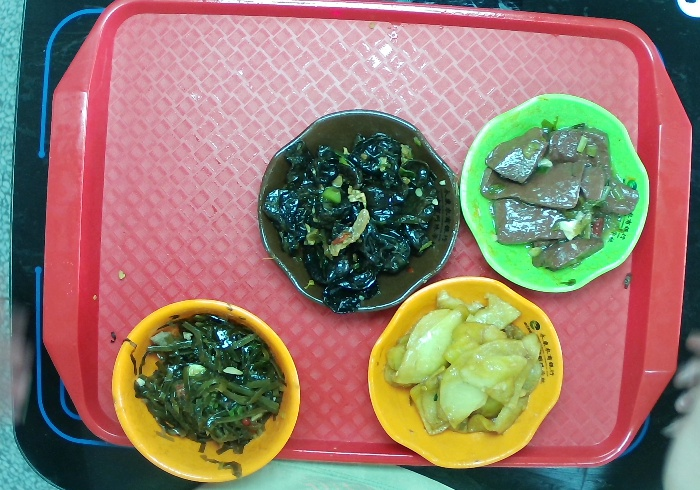YKMZ-Ju_Se_Ao_Bian_Wan: (367, 275, 568, 471)
YKMZ-Ju_Se_Yuan_Wan: (109, 297, 303, 484)
YKMZ-Ka_Fei_Ao_Bian_Wan: (256, 107, 462, 317)
YKMZ-Lv_Se_Ao_Bian_Wan: (459, 91, 652, 296)
